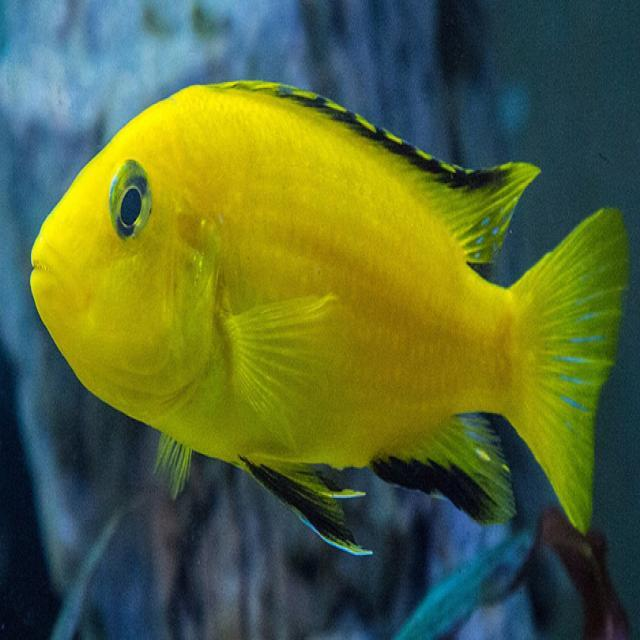YellowCichlid: (25, 62, 640, 586)
